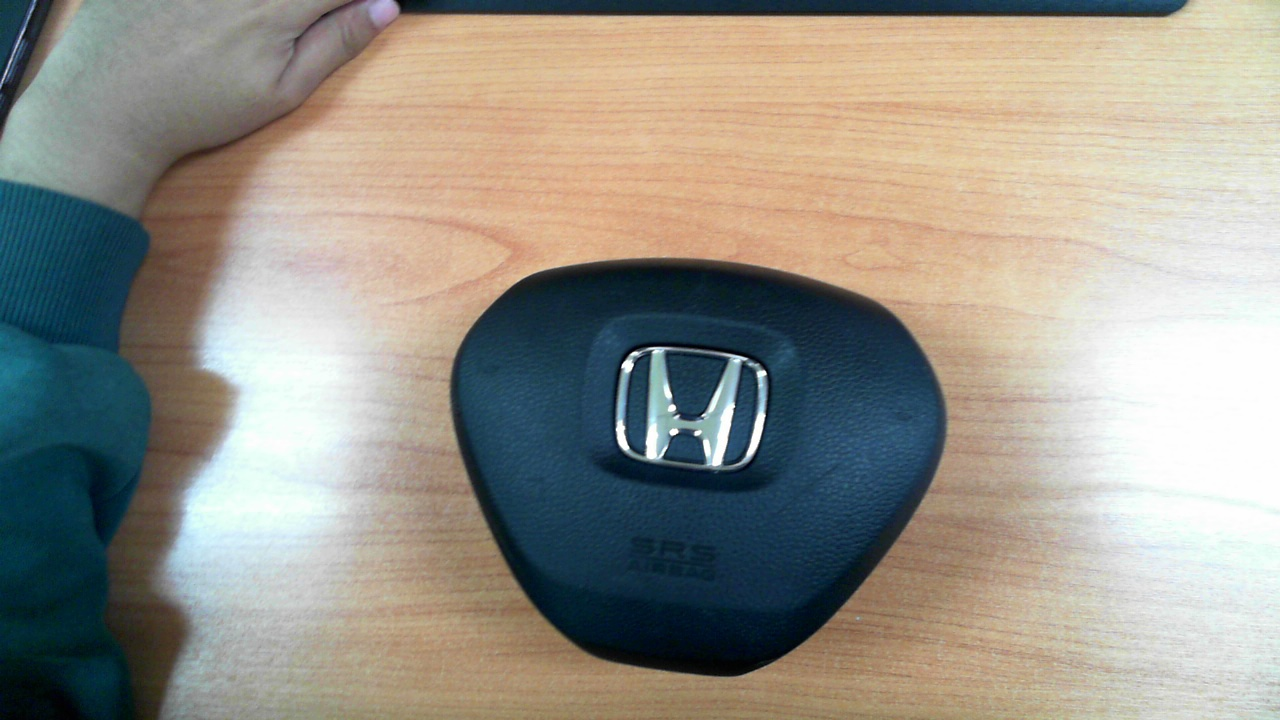Airbag: (449, 258, 947, 677)
Honda: (623, 345, 766, 467)
